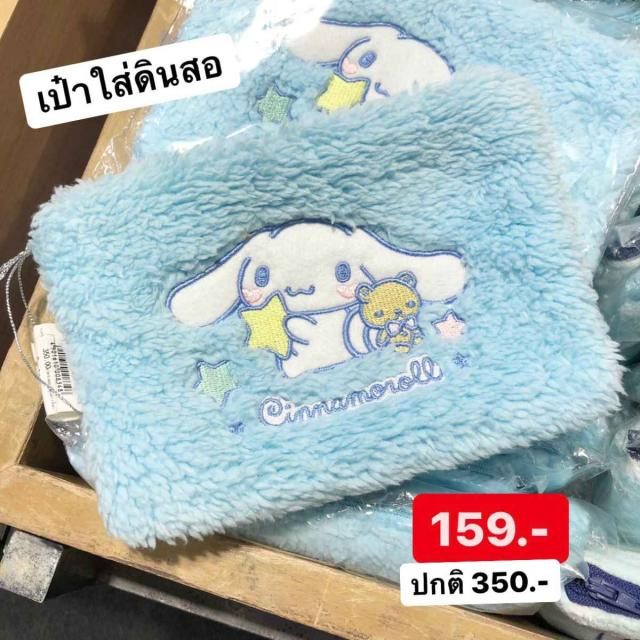Handbag: (31, 64, 628, 546)
